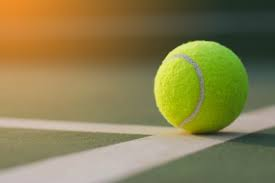tennis_ball: (153, 39, 250, 135)
